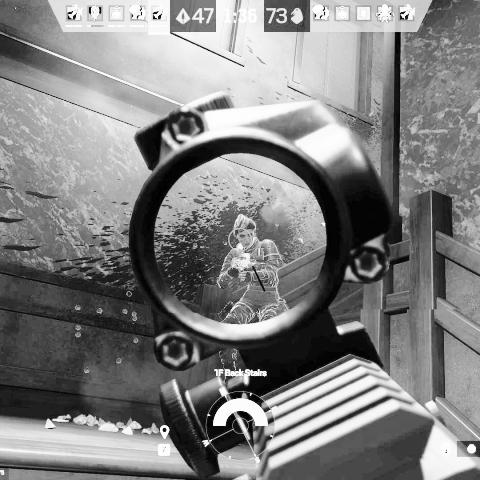Character: (217, 211, 292, 383)
Head: (234, 214, 258, 249)
